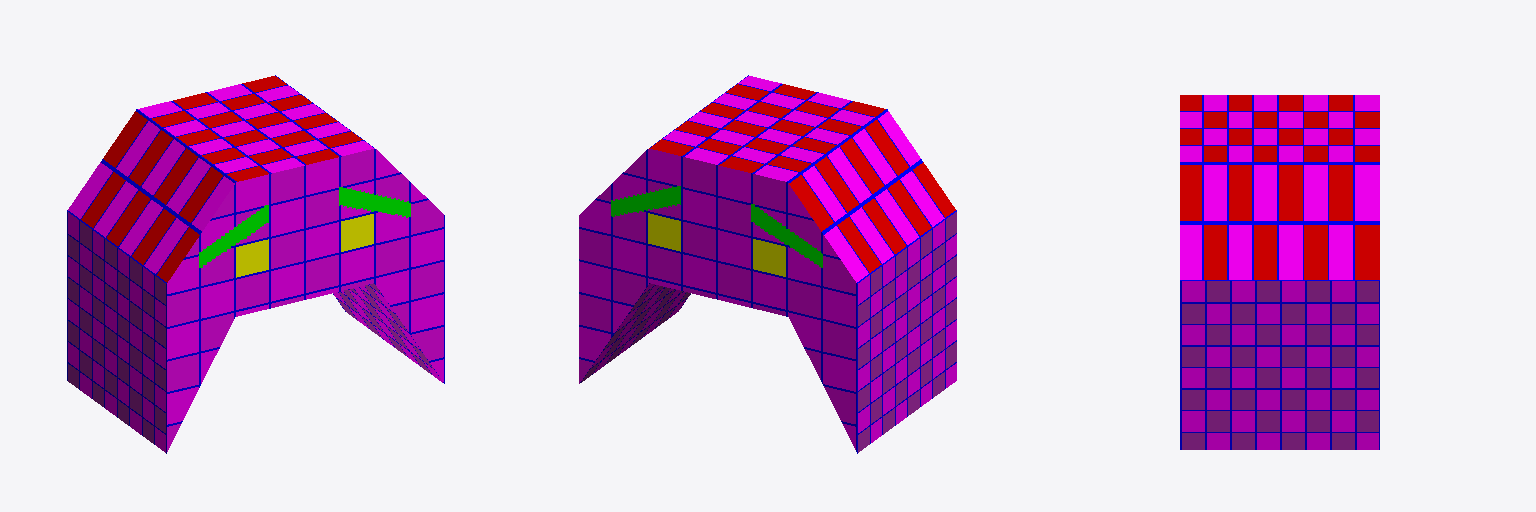
3 renders of one model, left to right at view 1: azimuth 30°, elevation 25°; view 2: azimuth 150°, elevation 25°; view 3: azimuth 270°, elevation 25°, orthographic.
Visible parts, largest first — view 1: front, top, right; view 2: back, top, right; view 3: top, left.
Part boxes in pixels (x1,y1,x2,y2): front: (167,149,444,451); top: (67,75,374,283); right: (67,212,443,453); back: (579,149,856,451); top: (649,75,956,283); right: (580,212,956,453); top: (1180,95,1379,280); left: (1180,281,1379,449).
Size of the model in its own units: 35.09 by 30.64 by 21.76.
1 materials, 1 textured.